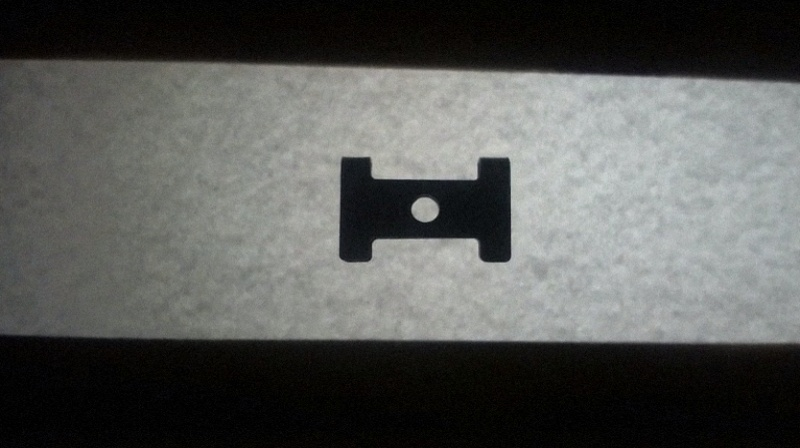O002: (335, 154, 514, 265)
